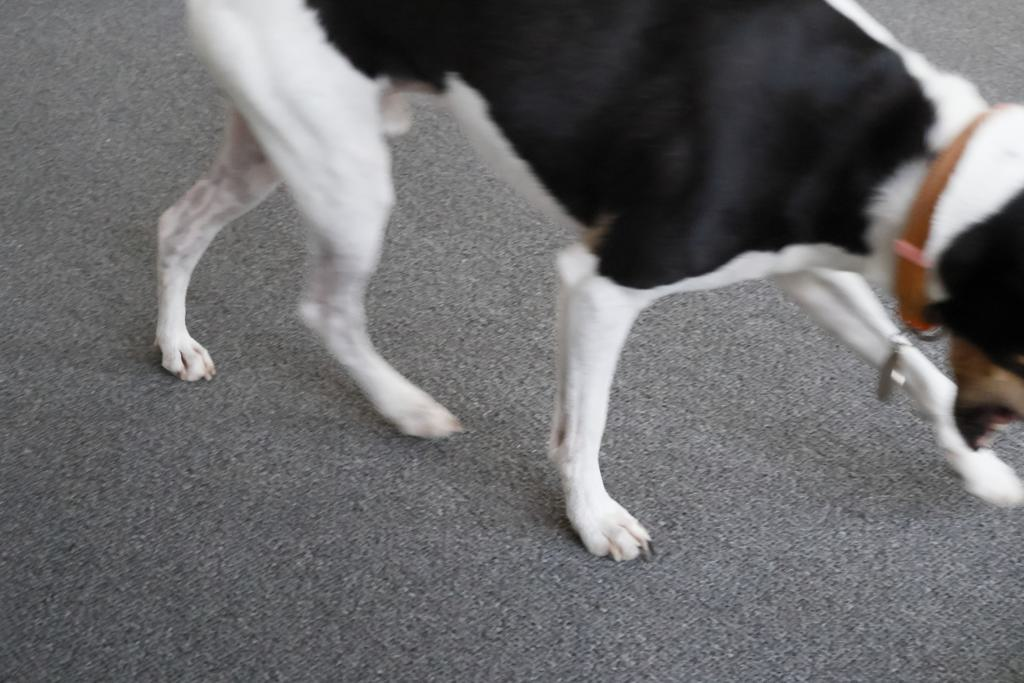Dog: (147, 0, 1024, 578)
